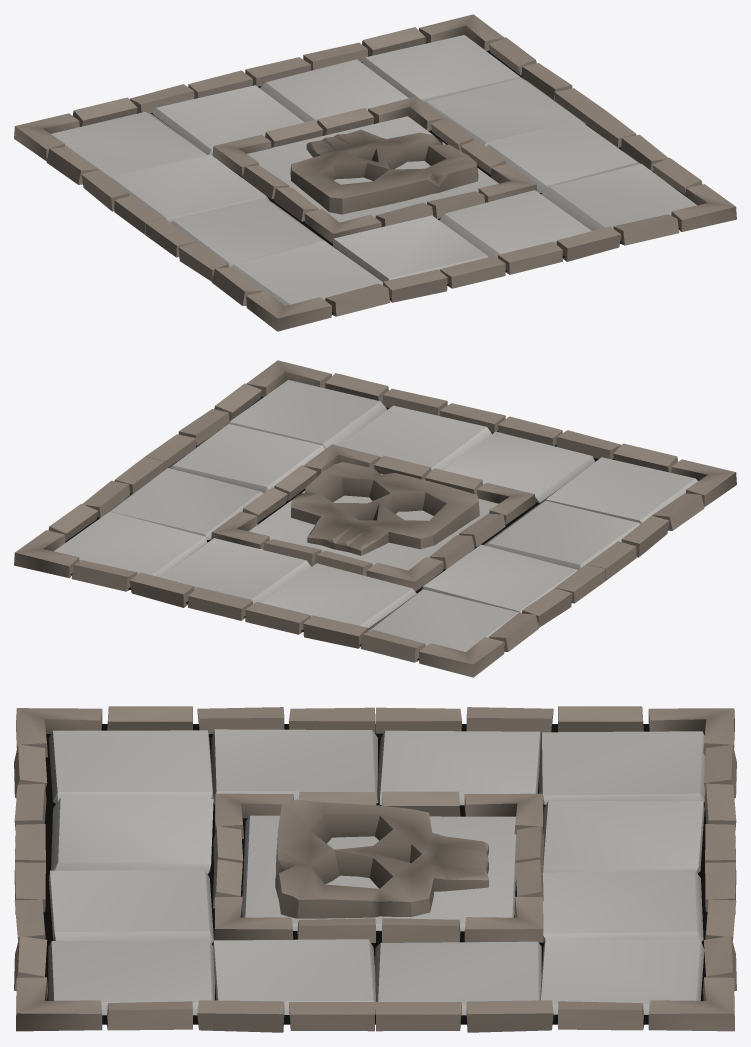
The model's file is floor_decoration_C_LOW.FBX.
The picture shows the model from 3 angles, top to bottom: view 1: azimuth 30°, elevation 25°; view 2: azimuth 150°, elevation 25°; view 3: azimuth 270°, elevation 25°; orthographic projection. The views are drawn at different scales.
Visible parts, largest first — view 1: floor_decoration_C_LOW; view 2: floor_decoration_C_LOW; view 3: floor_decoration_C_LOW.
Boxes of the visible parts, bbox=[...] form: floor_decoration_C_LOW: bbox=[14, 14, 736, 331]; floor_decoration_C_LOW: bbox=[14, 360, 736, 677]; floor_decoration_C_LOW: bbox=[14, 706, 736, 1032].
Bounding box in the file's own units: 4.09 × 0.3404 × 4.06.
